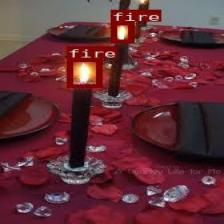fire: (66, 58, 101, 87), (110, 21, 134, 43)
